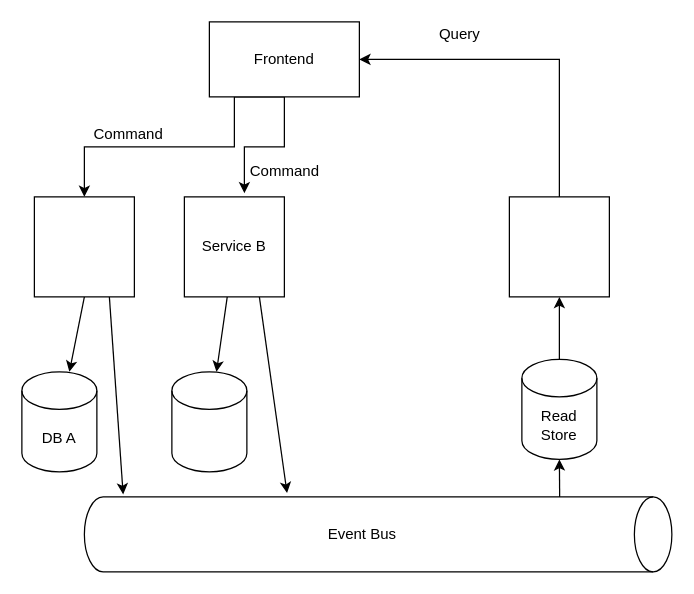
The diagram is 694 pixels wide and 594 high, and some of its shapes have lost their labels. The centre of each missing label's shape, as x and y in pixels:
"DB B" goes at (209,421).
"Query Handler" goes at (558,246).
"Service A" goes at (83,246).
